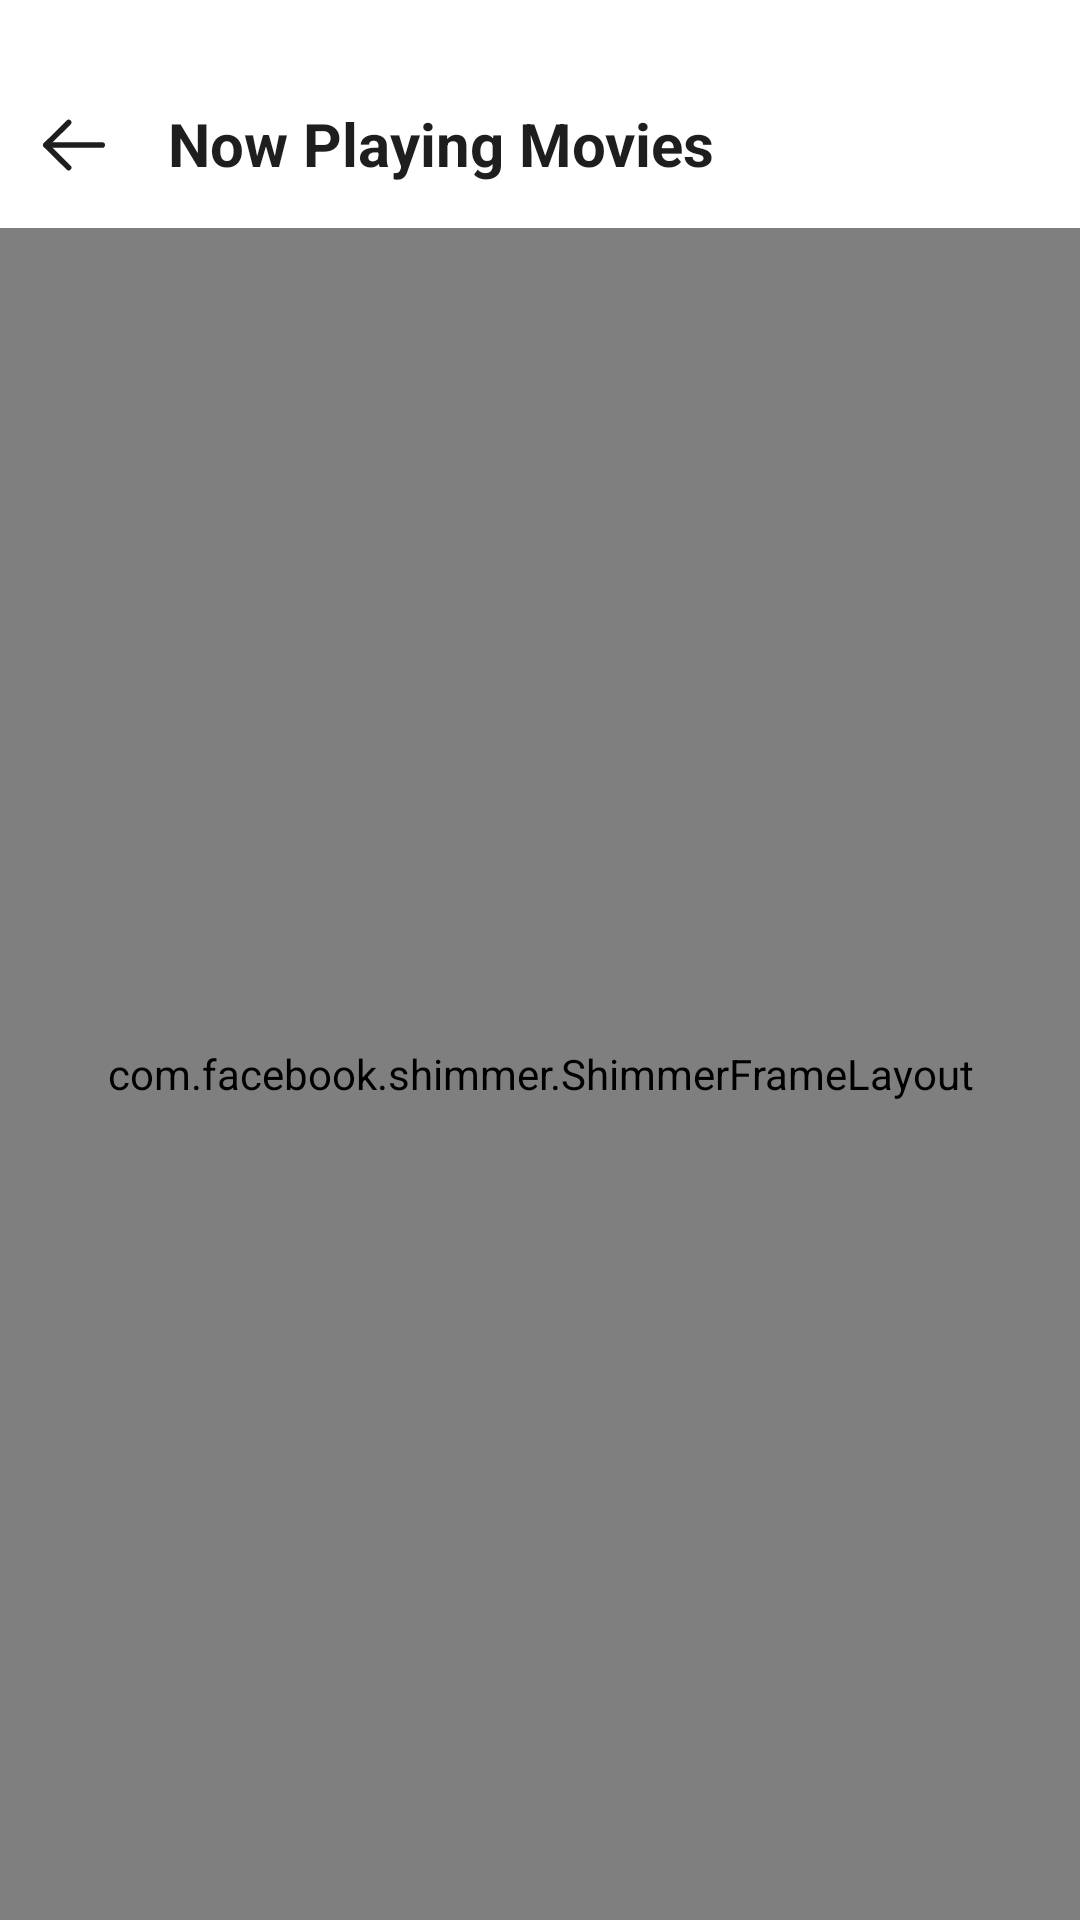

Where to tap for icons on this 1080w x 1920h app screen, as [x,y]:
Back button: [74,145]
